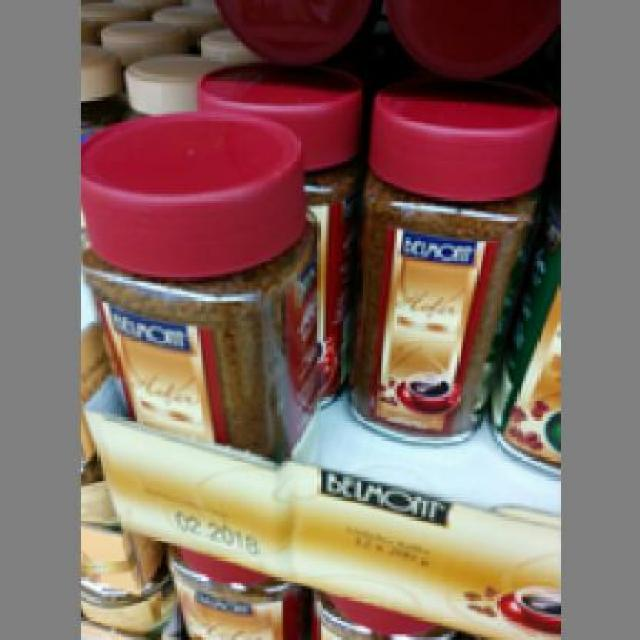Coffee: (77, 108, 320, 464), (348, 80, 552, 443)
